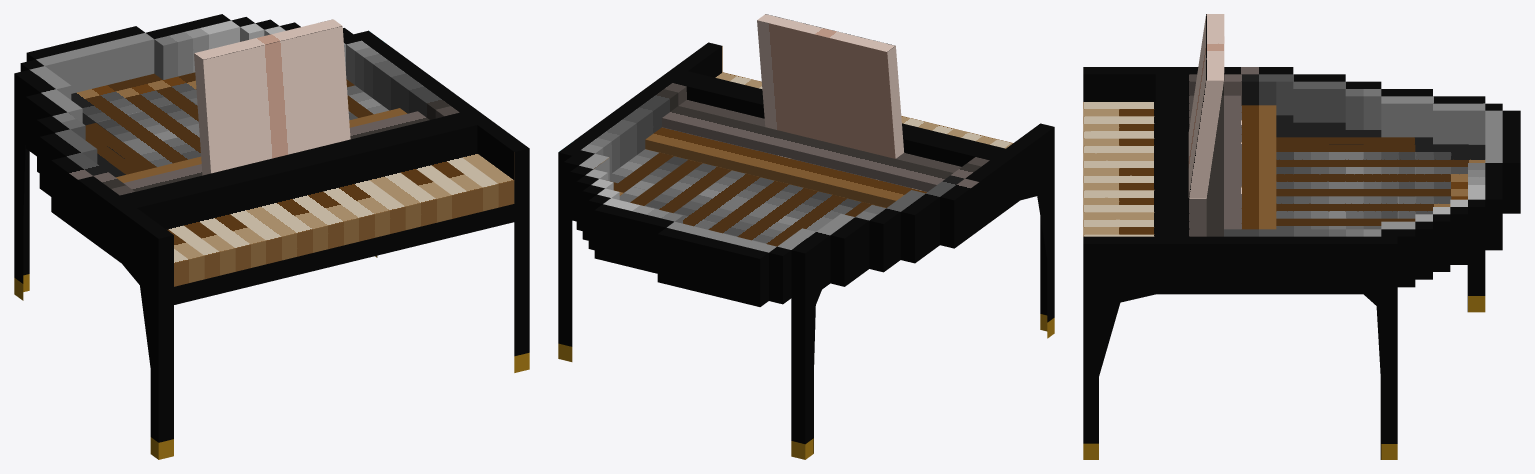
File: m_harpiscord_689.gltf
3 views of the same model, side by side, from view 1: azimuth 30°, elevation 25°; view 2: azimuth 150°, elevation 25°; view 3: azimuth 270°, elevation 25° (orthographic). The views are drawn at different scales.
Parts seen in each view (by area): view 1: m_harpiscord_689; view 2: m_harpiscord_689; view 3: m_harpiscord_689.
Part boxes in pixels (left/top/right/bottom): m_harpiscord_689: left=14, top=14, right=529, bottom=459; m_harpiscord_689: left=558, top=14, right=1054, bottom=459; m_harpiscord_689: left=1083, top=14, right=1520, bottom=459.
Bounding box in the file's own units: 3.17 × 2.68 × 3.31.
1 material, 1 textured.
